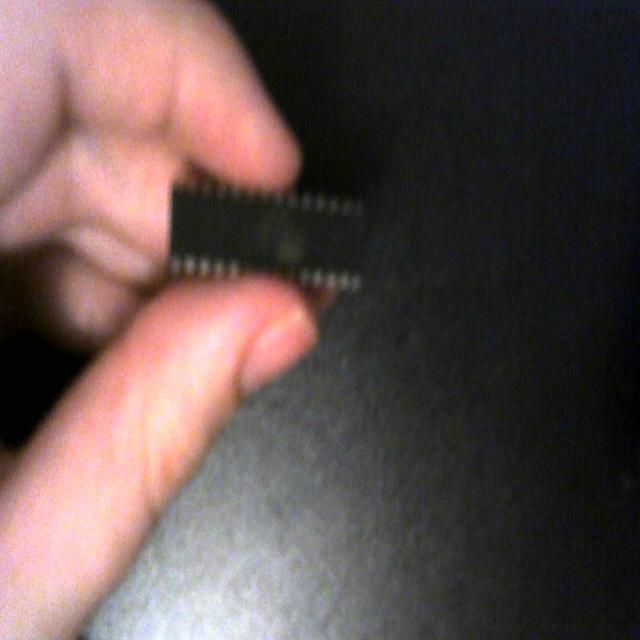atmega: (160, 166, 372, 306)
